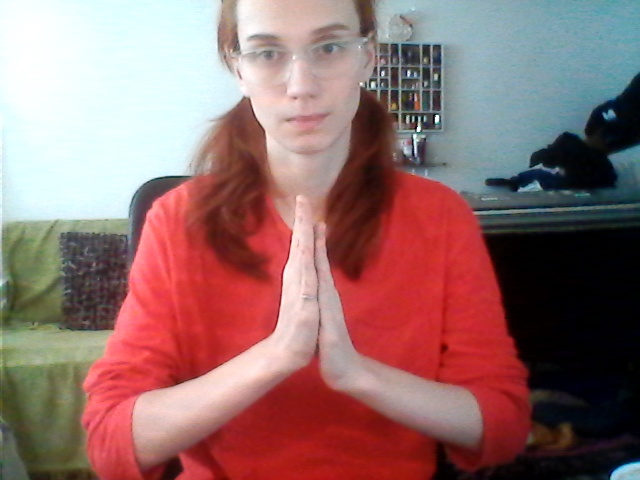prosim: (233, 197, 395, 423)
